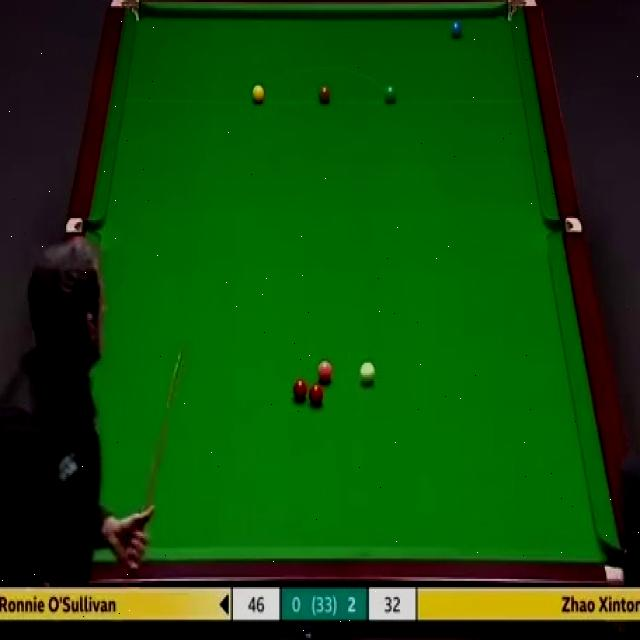blue-ball: (449, 19, 464, 39)
brown-ball: (318, 86, 331, 102)
green-ball: (383, 82, 398, 105)
pink-ball: (316, 359, 334, 383)
red-ball: (310, 382, 324, 410), (292, 377, 308, 400)
white-ball: (358, 360, 374, 384)
yellow-ball: (251, 82, 265, 104)
